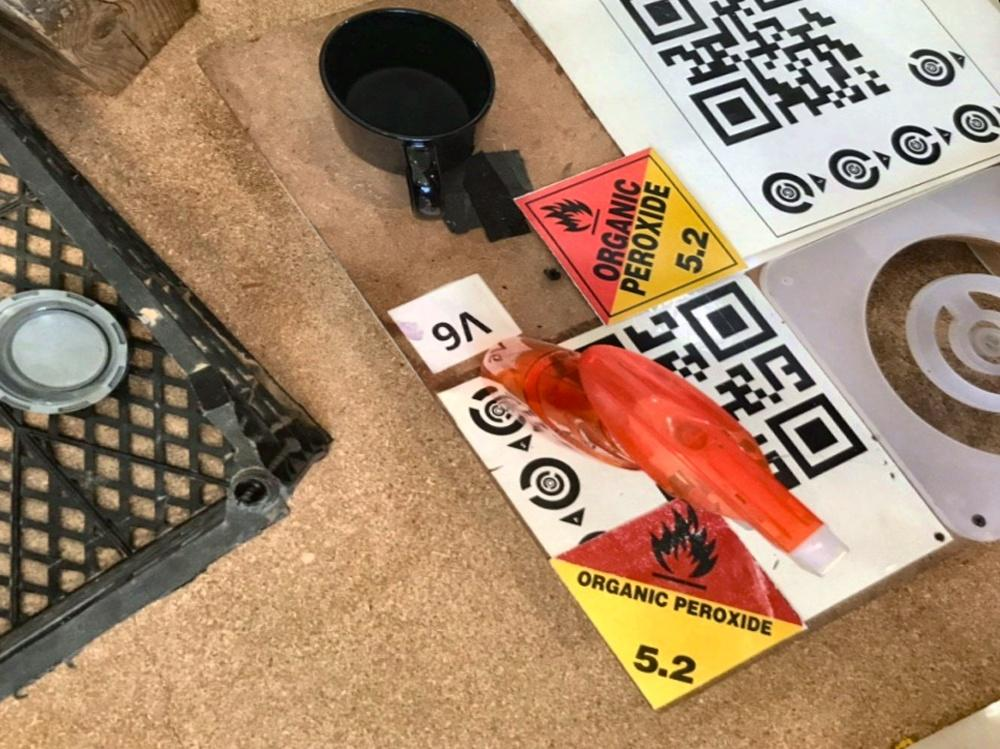organic-peroxide: (534, 492, 821, 713), (513, 148, 753, 322)
